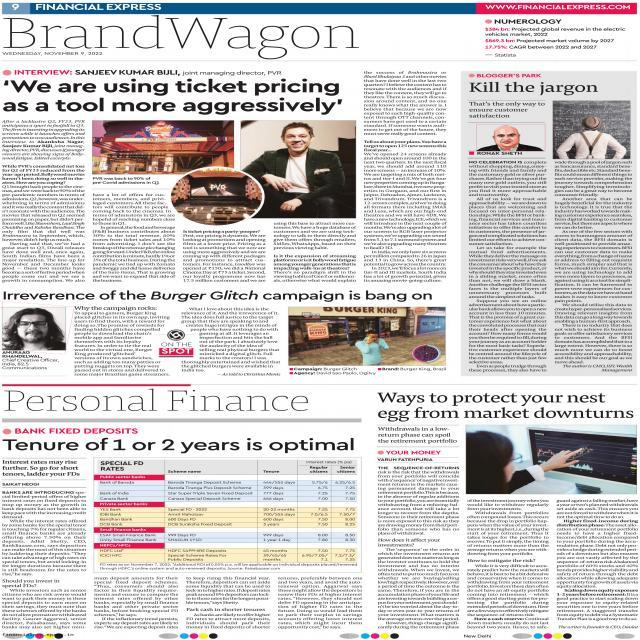Article: (1, 68, 452, 285), (0, 428, 362, 630), (375, 391, 640, 630), (460, 70, 636, 377), (1, 290, 447, 378)
Body: (362, 70, 448, 284), (468, 160, 548, 373), (553, 160, 633, 364), (1, 118, 86, 283), (377, 466, 461, 630), (0, 490, 89, 630), (466, 498, 550, 629), (556, 498, 640, 622), (92, 192, 176, 283), (272, 222, 358, 284), (93, 576, 180, 630), (277, 576, 363, 630), (185, 576, 272, 629), (182, 229, 267, 283), (72, 304, 170, 332), (180, 306, 280, 332), (73, 332, 155, 360), (198, 332, 280, 360), (74, 361, 172, 376), (180, 360, 282, 372)
Date: (0, 51, 104, 56)
Heading: (1, 78, 344, 116), (376, 391, 634, 422), (1, 437, 360, 454), (0, 290, 434, 302), (468, 80, 600, 96)
Highlights: (482, 18, 628, 52), (1, 458, 82, 478), (377, 426, 458, 444), (468, 101, 546, 119)
Image: (98, 460, 357, 562), (466, 424, 637, 494), (290, 306, 444, 366), (264, 120, 356, 218), (92, 120, 234, 166), (176, 168, 262, 225), (554, 100, 630, 160), (1, 308, 66, 350), (478, 124, 545, 151)
Name: (1, 14, 360, 50), (2, 388, 314, 414), (34, 3, 162, 11)
